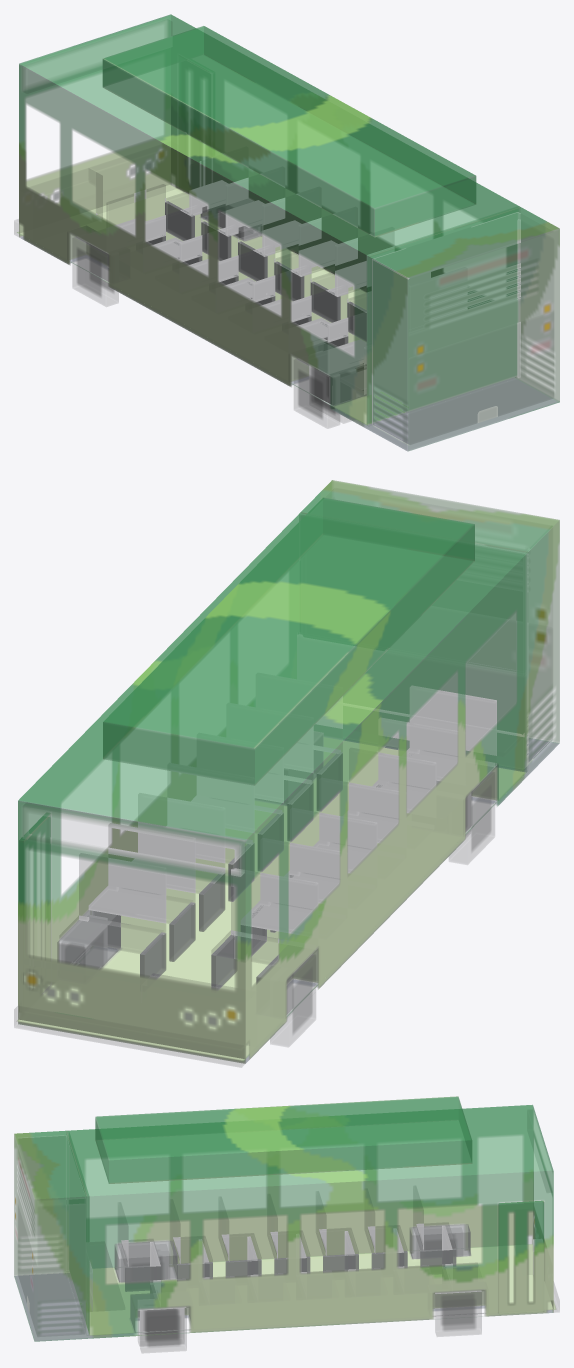
The model's file is Bus_by_CreeperCoastal_low_poly.glb.
3 views of the same model, one above another, from view 1: azimuth 30°, elevation 25°; view 2: azimuth 150°, elevation 25°; view 3: azimuth 270°, elevation 25° (orthographic). The views are drawn at different scales.
Visible parts, largest first — view 1: unnamed (×25); view 2: unnamed (×35); view 3: unnamed (×34).
Boxes of the visible parts, bbox=[...] form: unnamed (×25): bbox=[17, 14, 559, 451]; unnamed (×35): bbox=[14, 480, 559, 1066]; unnamed (×34): bbox=[14, 1096, 556, 1352].
Size of the model in its own units: 4.3 by 3.88 by 10.43.
1 material, 1 textured.
